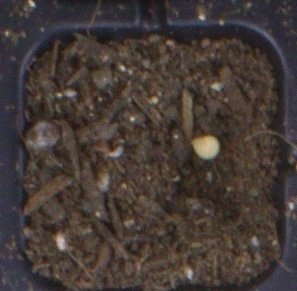chilli seed: (190, 134, 221, 161)
